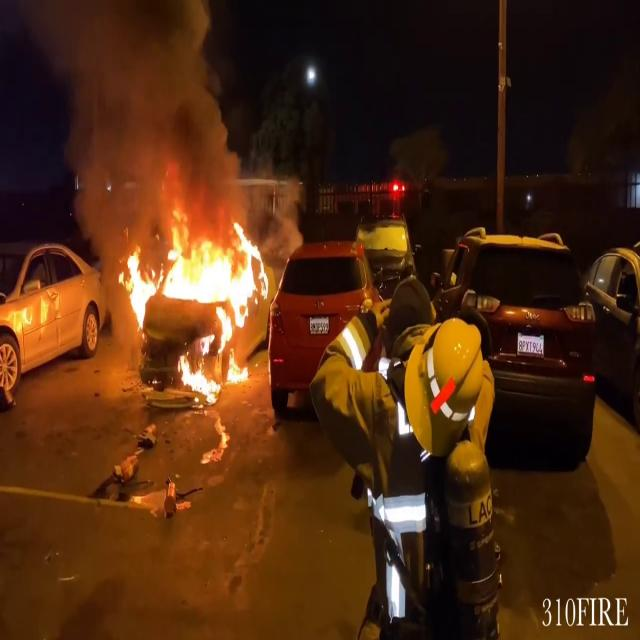Fire: (118, 204, 268, 383)
Smoke: (16, 0, 238, 218)
